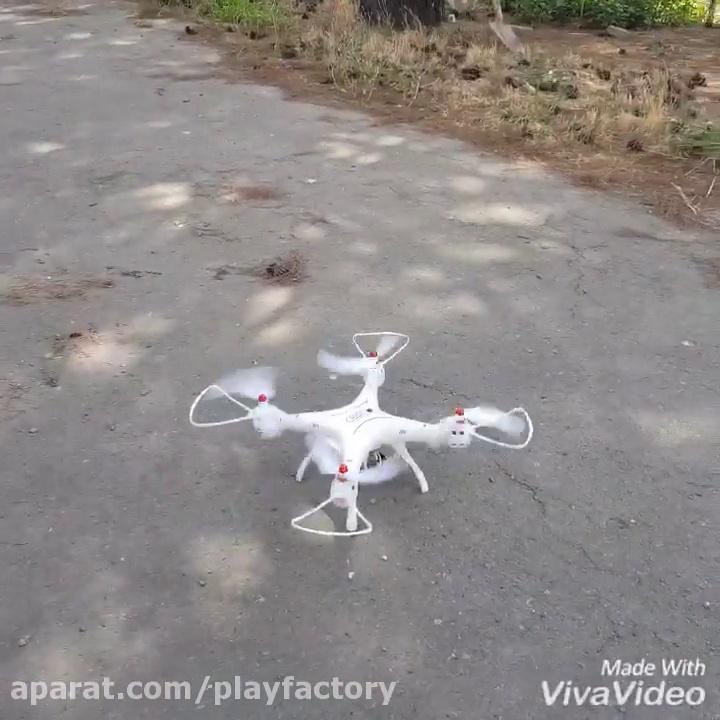drone: (183, 327, 536, 540)
